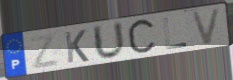C: (126, 16, 159, 57)
K: (63, 28, 91, 64)
L: (161, 16, 189, 52)
U: (91, 20, 128, 62)
V: (189, 6, 223, 48)
Z: (26, 32, 61, 71)
